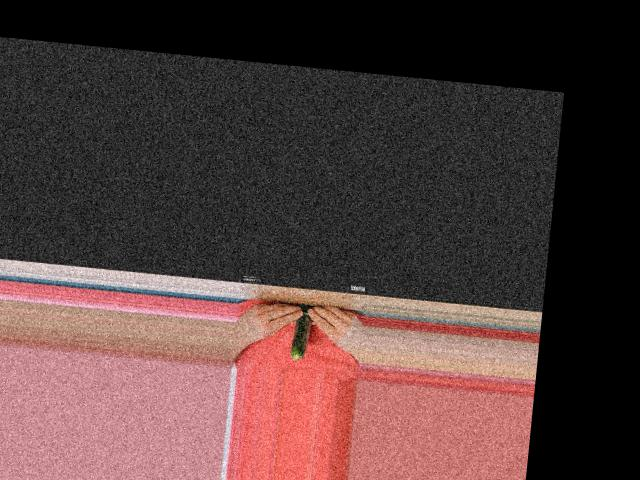cucumber: (289, 304, 312, 360)
